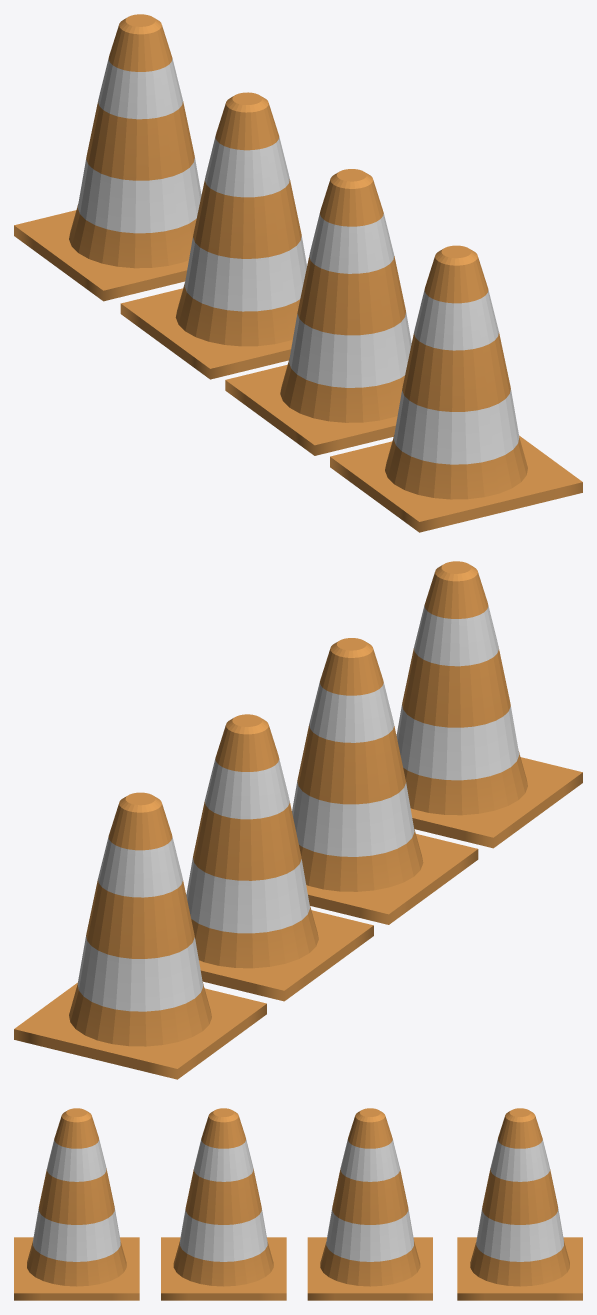
File: TrafficCones.fbx
3 renders of one model, top to bottom at view 1: azimuth 30°, elevation 25°; view 2: azimuth 150°, elevation 25°; view 3: azimuth 270°, elevation 25°, orthographic. The views are drawn at different scales.
Parts seen in each view (by area): view 1: TrafficCones; view 2: TrafficCones; view 3: TrafficCones.
Boxes of the visible parts, x1,y1,x2,y2 form: TrafficCones: [14, 14, 582, 532]; TrafficCones: [14, 561, 582, 1079]; TrafficCones: [14, 1108, 582, 1300].
Bounding box in the file's own units: 20.28 × 27.03 × 87.07.
